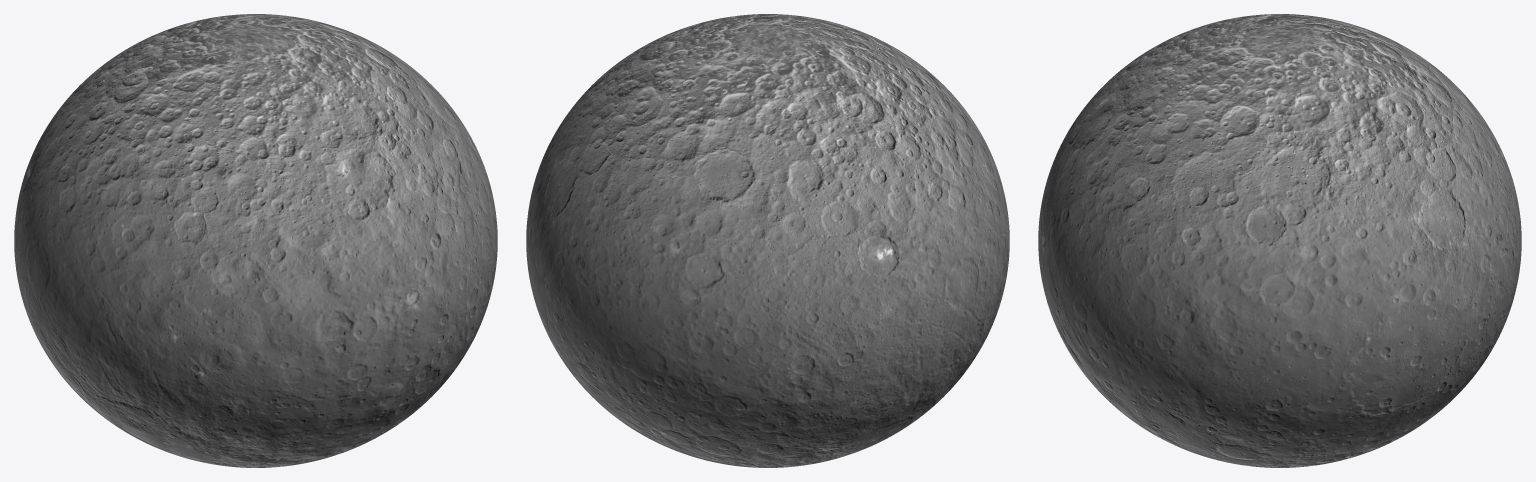
File: ceres.glb
The picture shows the model from 3 angles, left to right: view 1: azimuth 30°, elevation 25°; view 2: azimuth 150°, elevation 25°; view 3: azimuth 270°, elevation 25°; orthographic projection.
Parts seen in each view (by area): view 1: ceres_globe; view 2: ceres_globe; view 3: ceres_globe.
Boxes of the visible parts, box(x1,y1,x2,y2) form: ceres_globe: box(14, 14, 497, 467); ceres_globe: box(526, 14, 1009, 467); ceres_globe: box(1038, 14, 1521, 467).
Size of the model in its own units: 2 by 1.85 by 2.
Materials: 1 (1 with a texture image).
